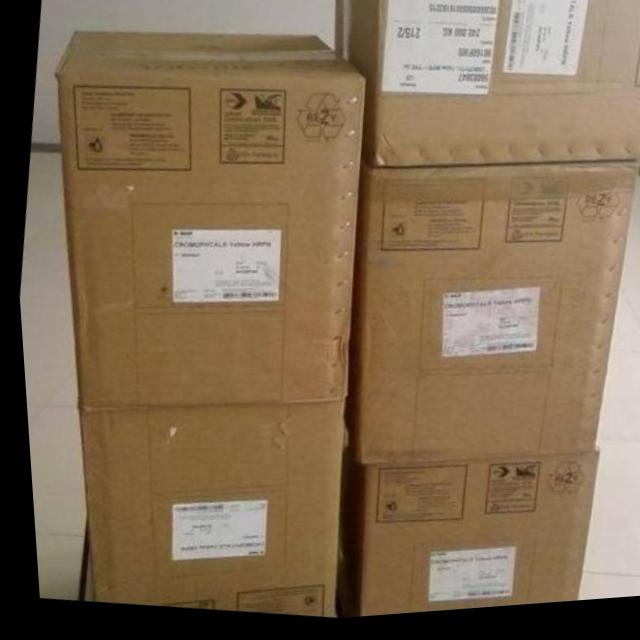box: (52, 30, 364, 410), (344, 168, 639, 469), (70, 407, 337, 620), (332, 0, 640, 169), (330, 450, 594, 622)
